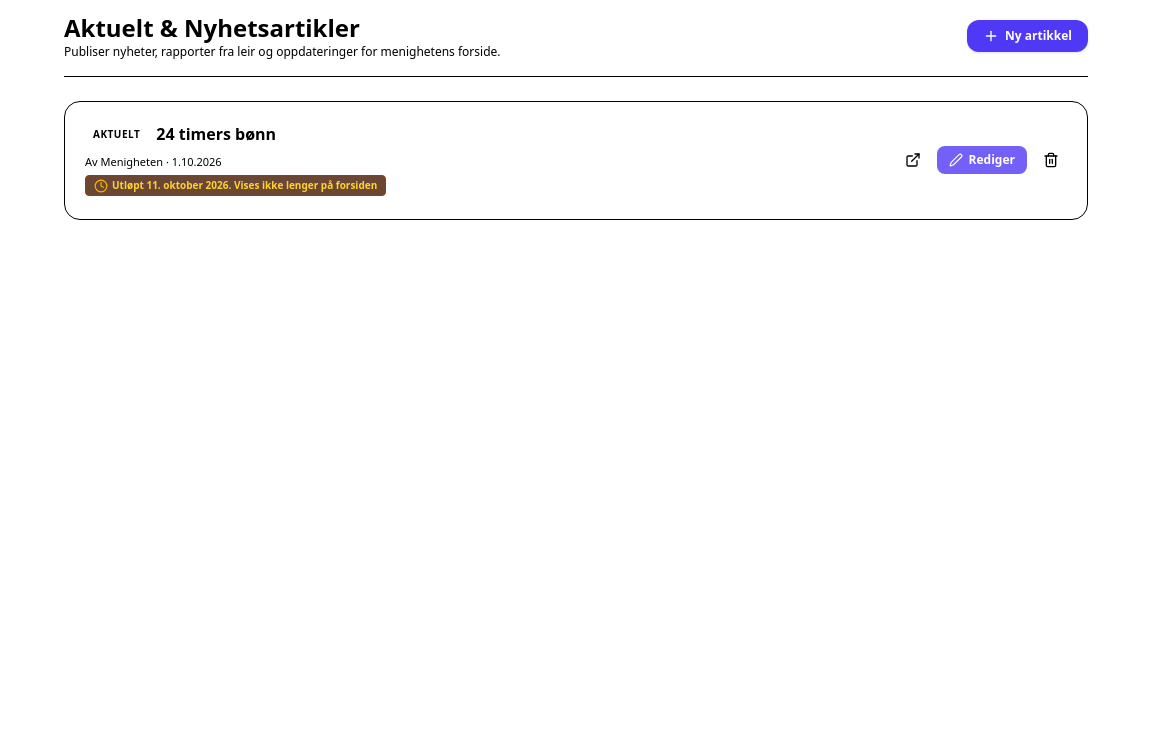
Scenario: Nyhetene i admin › arrangementet en nyhet hører til, står i listen også når det er holdt, så valget ikke forsvinner ved lagring
Click the button "Rediger".
click(982, 160)  # box [937,146,1027,174]
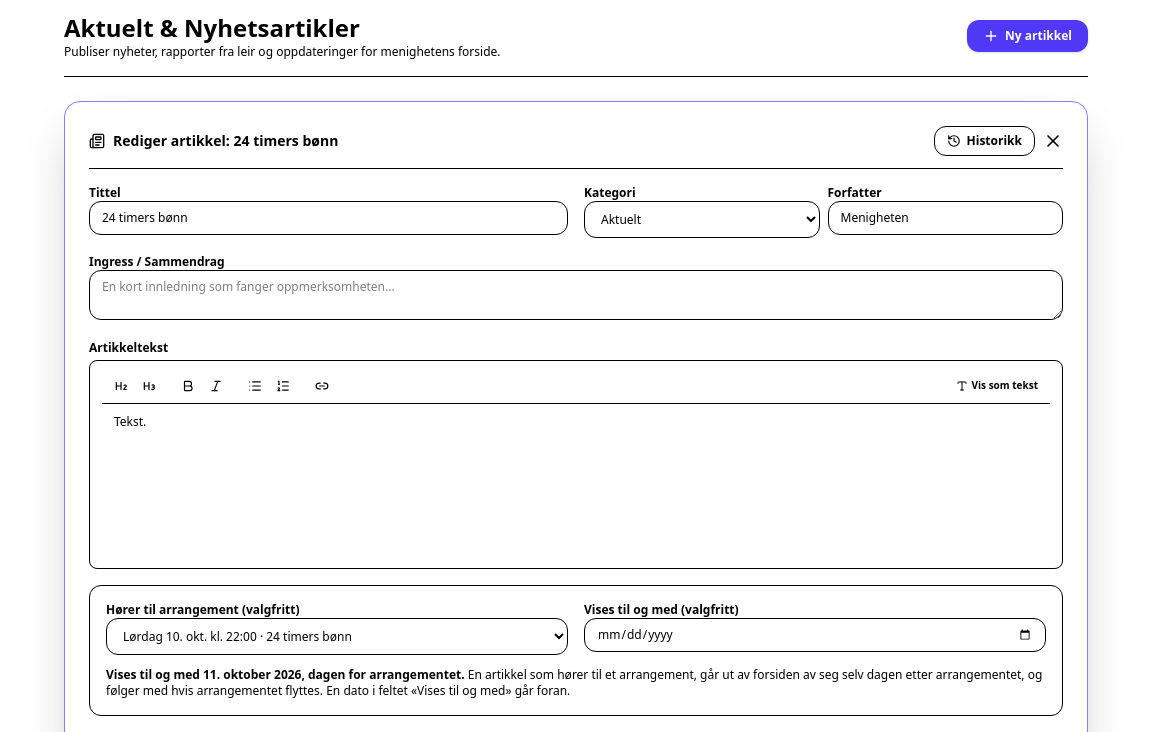
Check: the dropdown labelled "Hører til arrangement (valgfritt)" shows "Lørdag 10. okt. kl. 22:00 · 24 timers bønn", box [106,618,568,655]
